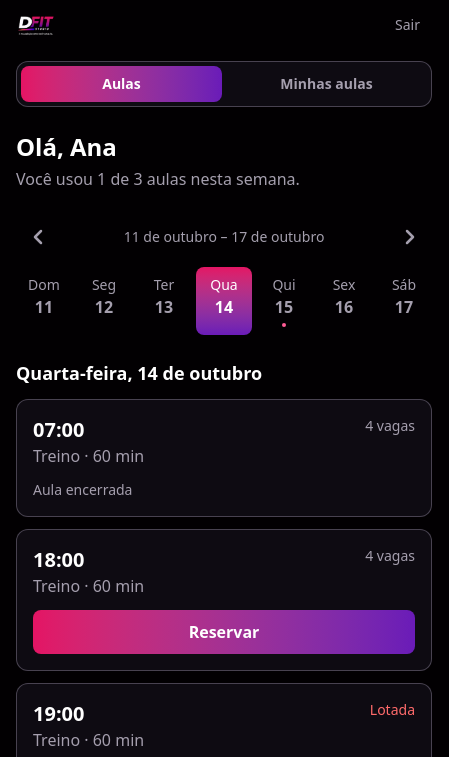
it: week view › switches day
Expected: the text "18:00" is shown, 33,546 -> 84,573
Click the tab with aria-label "Quinta-feira": {"x": 284, "y": 301} 256,267 -> 312,335
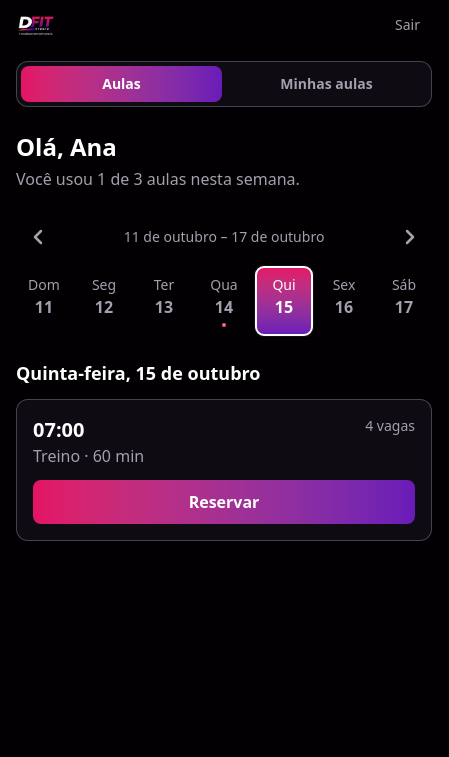
Expected: the text "07:00" is shown, 33,416 -> 84,443
Now the text "18:00" is gone
